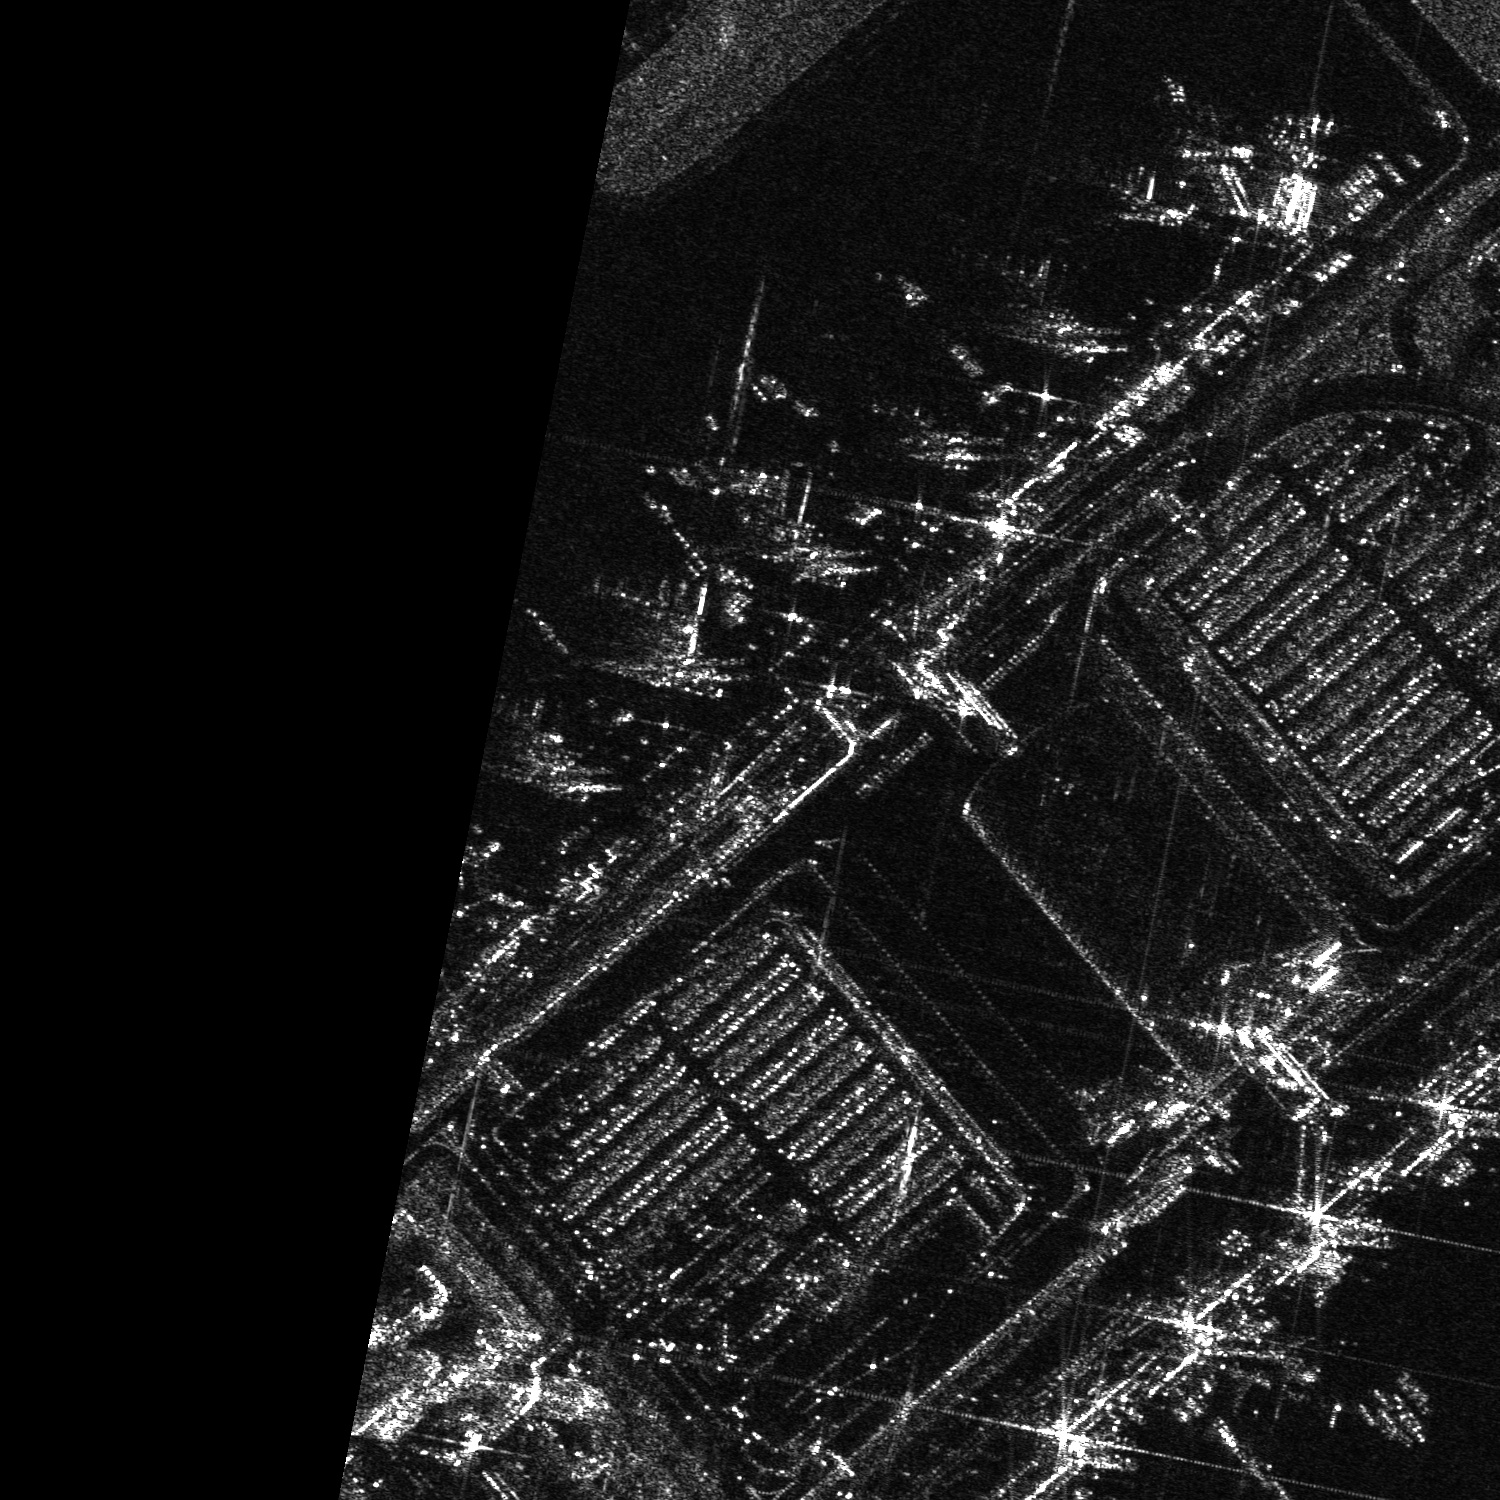A330: (1261, 1334, 1359, 1429)
Boeing737: (956, 249, 1065, 346), (499, 688, 584, 782), (1174, 96, 1261, 163), (1104, 163, 1190, 229)
Boeing787: (592, 566, 709, 690), (705, 455, 810, 543), (1266, 106, 1348, 170)
